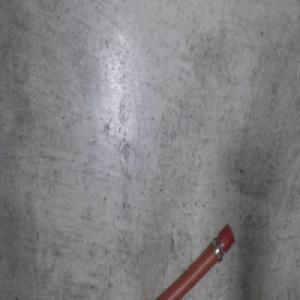Hose: (152, 222, 235, 300)
